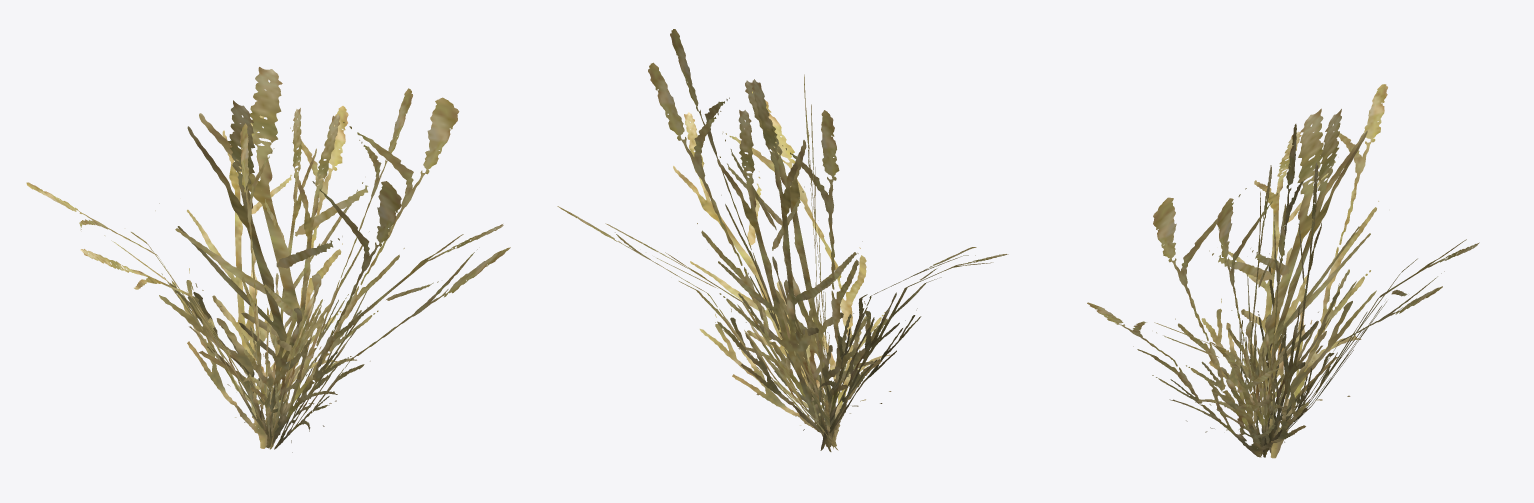
Rendered from Foliage_Grass_M5_04.glb.
3 views of the same model, side by side, from view 1: azimuth 30°, elevation 25°; view 2: azimuth 150°, elevation 25°; view 3: azimuth 270°, elevation 25° (orthographic). The views are drawn at different scales.
Parts seen in each view (by area): view 1: FOLIAGE_GRASS_M5_04; view 2: FOLIAGE_GRASS_M5_04; view 3: FOLIAGE_GRASS_M5_04.
Boxes of the visible parts, x1,y1,x2,y2 form: FOLIAGE_GRASS_M5_04: (26,67,510,452); FOLIAGE_GRASS_M5_04: (557,29,1008,451); FOLIAGE_GRASS_M5_04: (1087,84,1479,458).
Size of the model in its own units: 0.523 by 0.474 by 0.482.
Materials: 1 (1 with a texture image).
